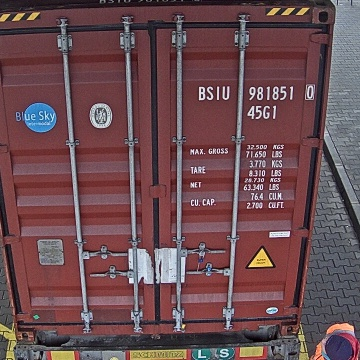serial_id: (197, 85, 313, 100)
